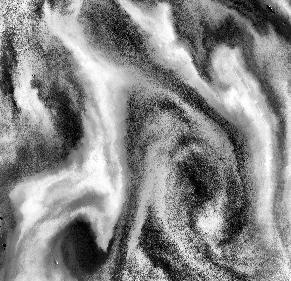AE: (129, 81, 268, 257)
